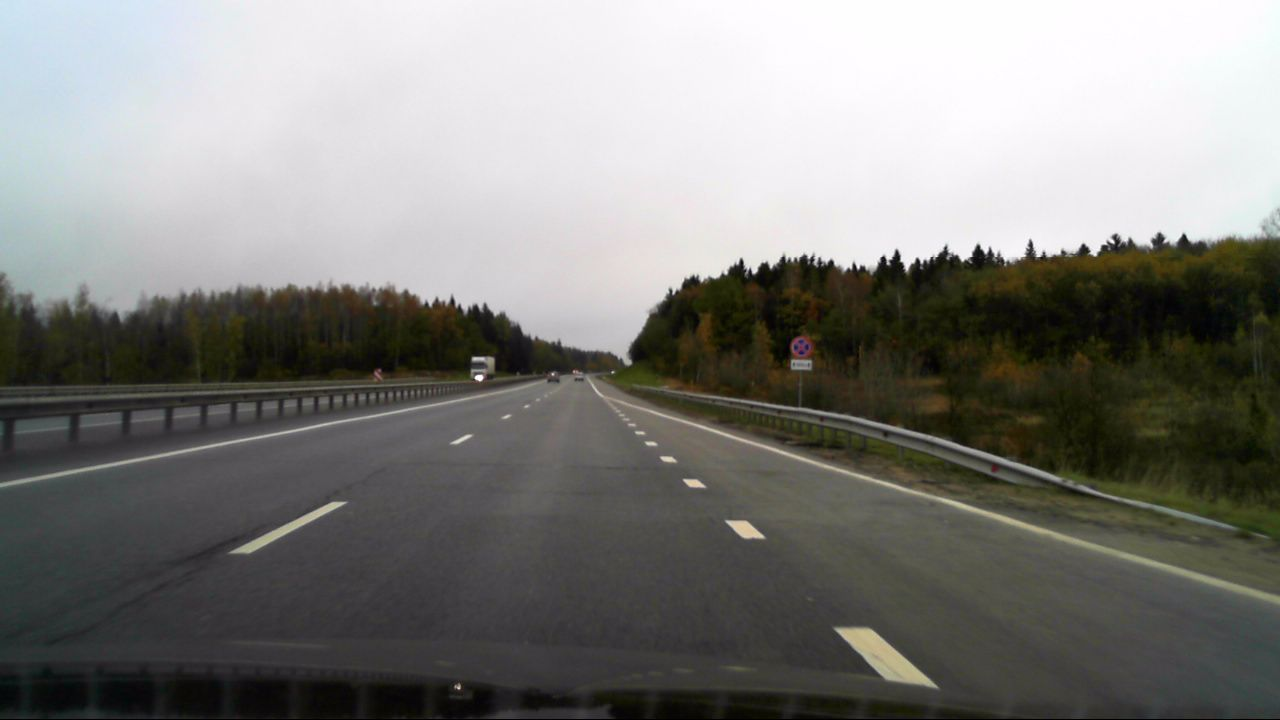No Parking: (791, 337, 811, 357)
